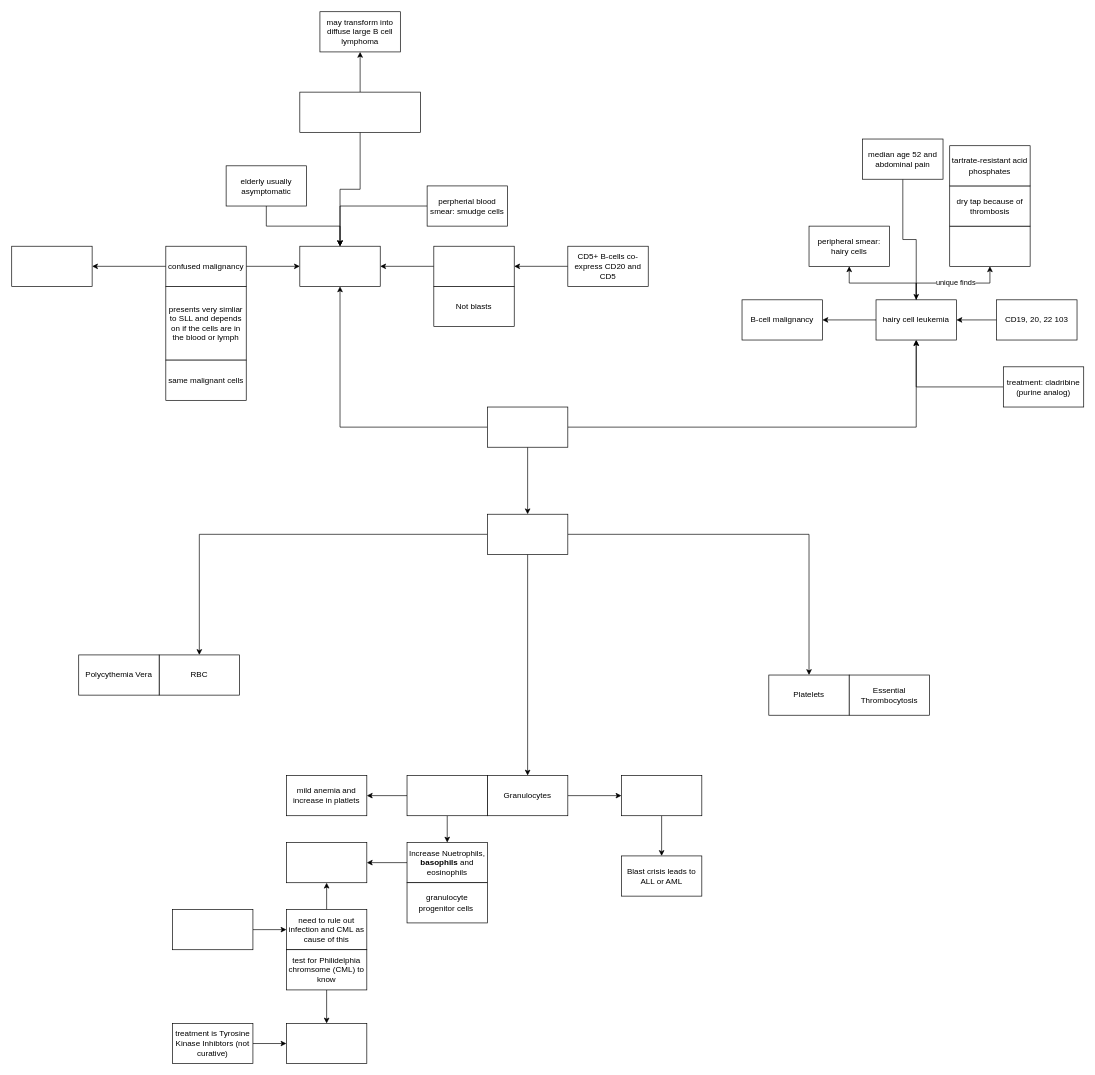
Image size: 1095x1075. Some labels were removed from this diagram. Each missing label, with the centre of its shape:
can do this via a LAP score (infection): the point at 212,929
Chronic Leukemia: the point at 527,426
Chronic Myeloid leukemia: the point at 446,795
CLL: the point at 339,266
common complications: B-cell disruption, hypogammaglobulinemia, autoantibodies: the point at 359,111
disorder of naive lymphocytes: the point at 473,266
leads to over activity of tyrosine kinase: the point at 326,1043
luekocytosis: the point at 326,862
massive spleenomegoly: red pulp enlarder: the point at 989,245
myeloproliferative Disorders: the point at 527,534
Phases: Chronic, accelerated phase, Blast crisis: the point at 661,795
SLL: the point at 51,266
